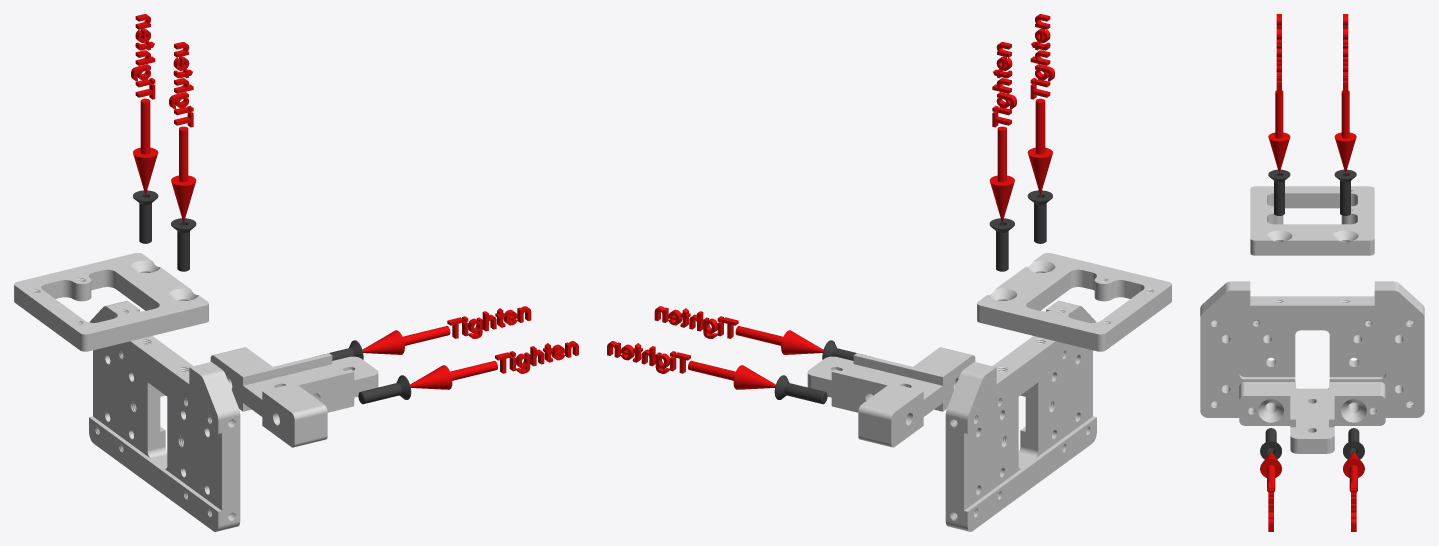
The picture shows the model from 3 angles, left to right: view 1: azimuth 30°, elevation 25°; view 2: azimuth 150°, elevation 25°; view 3: azimuth 270°, elevation 25°; orthographic projection. The views are drawn at different scales.
Parts seen in each view (by area): view 1: 03_01__XP__Carriage_Y_Axis___V3.0 v4, 03_17__XP__Fix_Y_Axis_Belt___V1.0 v9, 03_16__IQEX__Fix_Rail_Carriage_Y_Axis___V1.0 v12, SFS FN 2111 399467 Senkschraube DIN 7991 Stahl 10.9 schwarz  (×3), 1_0_Arrow_red-Assemble v4, 1_0_Arrow_red-Assemble v014, 1_0_Arrow_red-Assemble v034, 1_0_Arrow_red-Assemble v024; view 2: 03_01__XP__Carriage_Y_Axis___V3.0 v4, 03_17__XP__Fix_Y_Axis_Belt___V1.0 v9, 03_16__IQEX__Fix_Rail_Carriage_Y_Axis___V1.0 v12, SFS FN 2111 399467 Senkschraube DIN 7991 Stahl 10.9 schwarz  (×3), 1_0_Arrow_red-Assemble v014, 1_0_Arrow_red-Assemble v4, 1_0_Arrow_red-Assemble v024, 1_0_Arrow_red-Assemble v034; view 3: 03_01__XP__Carriage_Y_Axis___V3.0 v4, 03_16__IQEX__Fix_Rail_Carriage_Y_Axis___V1.0 v12, 03_17__XP__Fix_Y_Axis_Belt___V1.0 v9, SFS FN 2111 399467 Senkschraube DIN 7991 Stahl 10.9 schwarz  (×4), 1_0_Arrow_red-Assemble v4, 1_0_Arrow_red-Assemble v014, 1_0_Arrow_red-Assemble v024, 1_0_Arrow_red-Assemble v034.
Part boxes in pixels (left/top/right/bottom): 03_01__XP__Carriage_Y_Axis___V3.0 v4: left=89, top=300, right=240, bottom=531; 03_17__XP__Fix_Y_Axis_Belt___V1.0 v9: left=14, top=253, right=208, bottom=351; 03_16__IQEX__Fix_Rail_Carriage_Y_Axis___V1.0 v12: left=210, top=347, right=378, bottom=447; SFS FN 2111 399467 Senkschraube DIN 7991 Stahl 10.9 schwarz  (×3): left=133, top=190, right=411, bottom=404; 1_0_Arrow_red-Assemble v4: left=133, top=98, right=158, bottom=194; 1_0_Arrow_red-Assemble v014: left=171, top=126, right=196, bottom=222; 1_0_Arrow_red-Assemble v034: left=410, top=360, right=497, bottom=389; 1_0_Arrow_red-Assemble v024: left=362, top=326, right=450, bottom=354; 03_01__XP__Carriage_Y_Axis___V3.0 v4: left=945, top=300, right=1096, bottom=531; 03_17__XP__Fix_Y_Axis_Belt___V1.0 v9: left=977, top=253, right=1171, bottom=351; 03_16__IQEX__Fix_Rail_Carriage_Y_Axis___V1.0 v12: left=807, top=347, right=975, bottom=447; SFS FN 2111 399467 Senkschraube DIN 7991 Stahl 10.9 schwarz  (×3): left=774, top=190, right=1052, bottom=404; 1_0_Arrow_red-Assemble v014: left=1027, top=98, right=1052, bottom=194; 1_0_Arrow_red-Assemble v4: left=989, top=126, right=1014, bottom=222; 1_0_Arrow_red-Assemble v024: left=688, top=360, right=775, bottom=389; 1_0_Arrow_red-Assemble v034: left=735, top=326, right=823, bottom=354; 03_01__XP__Carriage_Y_Axis___V3.0 v4: left=1200, top=281, right=1424, bottom=417; 03_16__IQEX__Fix_Rail_Carriage_Y_Axis___V1.0 v12: left=1239, top=382, right=1385, bottom=453; 03_17__XP__Fix_Y_Axis_Belt___V1.0 v9: left=1250, top=186, right=1374, bottom=255; SFS FN 2111 399467 Senkschraube DIN 7991 Stahl 10.9 schwarz  (×4): left=1260, top=169, right=1364, bottom=459; 1_0_Arrow_red-Assemble v4: left=1334, top=90, right=1356, bottom=173; 1_0_Arrow_red-Assemble v014: left=1268, top=90, right=1290, bottom=173; 1_0_Arrow_red-Assemble v024: left=1343, top=451, right=1364, bottom=491; 1_0_Arrow_red-Assemble v034: left=1260, top=451, right=1281, bottom=491.
Size of the model in its own units: 0.184 by 0.1583 by 0.0814.
